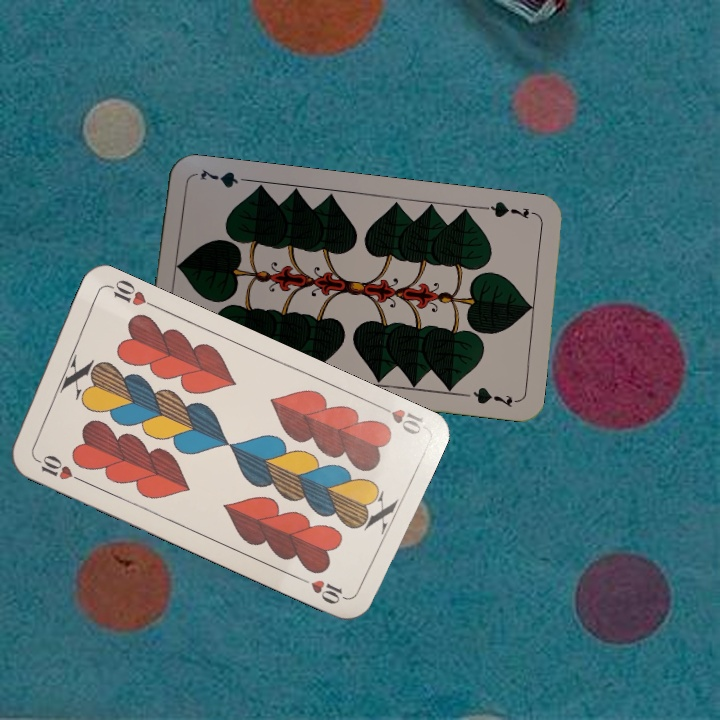G7: (480, 197, 539, 222)
H10: (371, 399, 427, 437), (29, 451, 84, 484)
